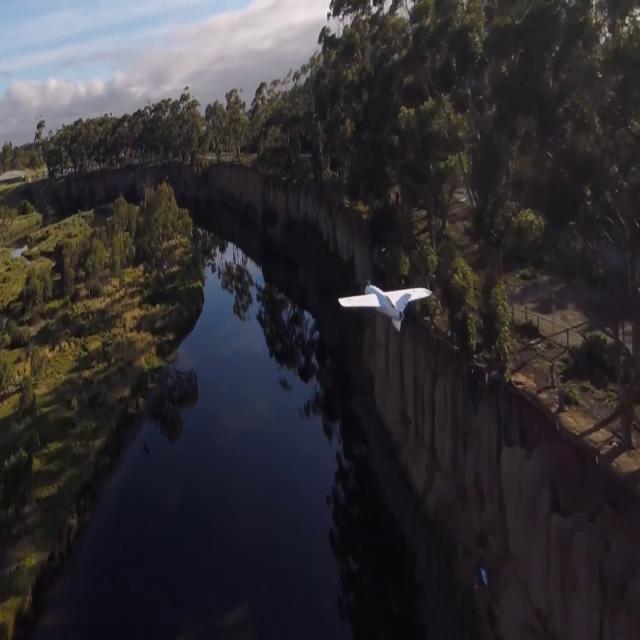iha: (369, 276, 403, 329)
